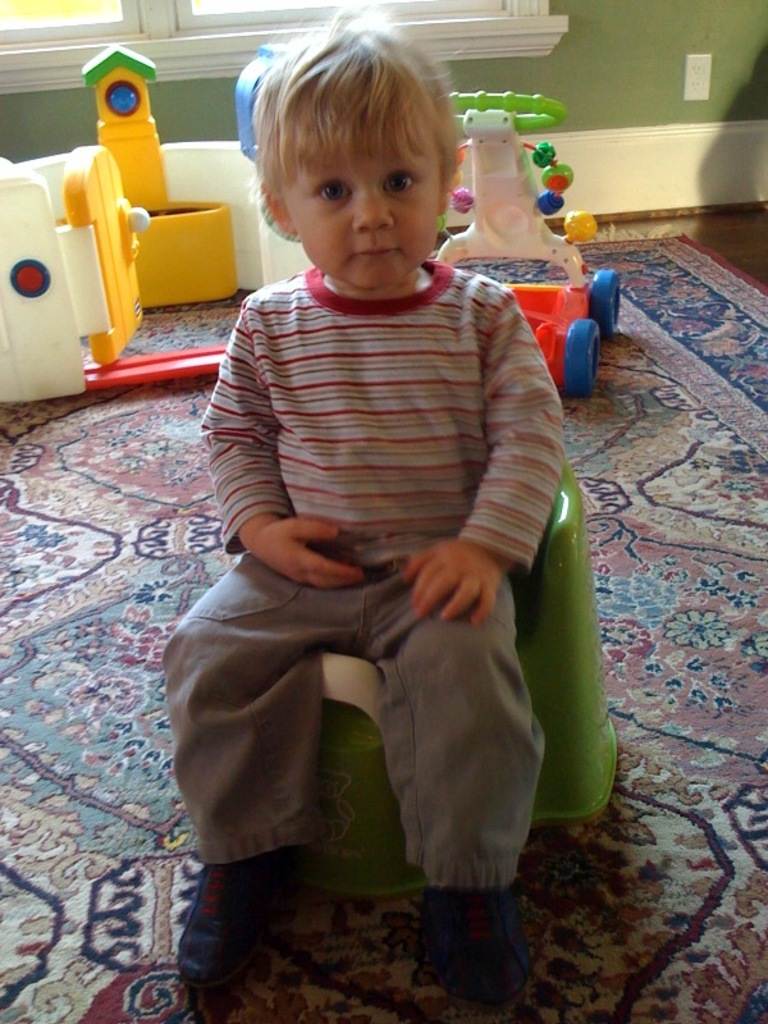Human_hand: (397, 534, 511, 630), (262, 506, 360, 588)
